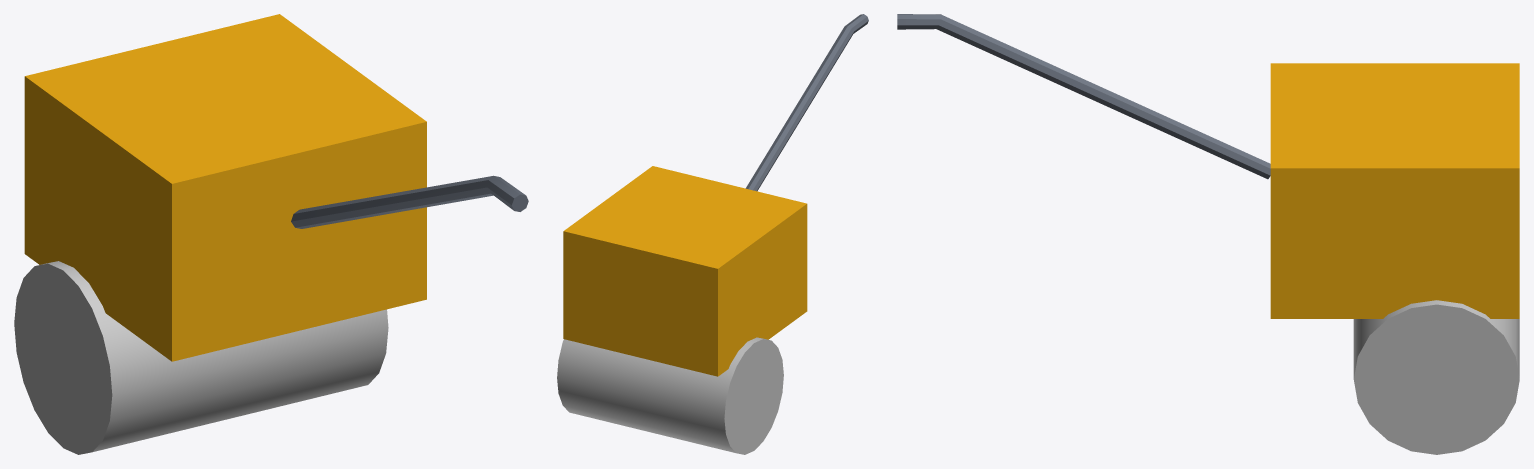
The model's file is plant.earthmoving.pedestrian_roller.glb.
The picture shows the model from 3 angles, left to right: view 1: azimuth 30°, elevation 25°; view 2: azimuth 150°, elevation 25°; view 3: azimuth 270°, elevation 25°; orthographic projection. The views are drawn at different scales.
Visible parts, largest first — view 1: main__plant_yellow, main__steel_stainless, main__steel_painted; view 2: main__plant_yellow, main__steel_stainless, main__steel_painted; view 3: main__plant_yellow, main__steel_stainless, main__steel_painted.
Part boxes in pixels (<box>): main__plant_yellow: <box>24,14,426,361</box>; main__steel_stainless: <box>14,261,388,454</box>; main__steel_painted: <box>291,175,528,228</box>; main__plant_yellow: <box>563,166,807,376</box>; main__steel_stainless: <box>557,337,783,454</box>; main__steel_painted: <box>745,14,868,191</box>; main__plant_yellow: <box>1270,63,1519,318</box>; main__steel_stainless: <box>1353,300,1519,454</box>; main__steel_painted: <box>897,14,1270,179</box>.
Bounding box in the file's own units: 0.65 × 1.02 × 1.5.
